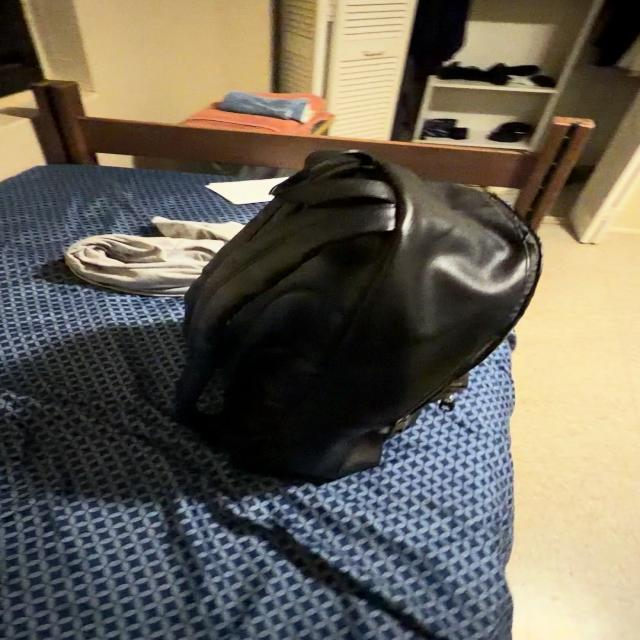backpack: (177, 151, 540, 480)
